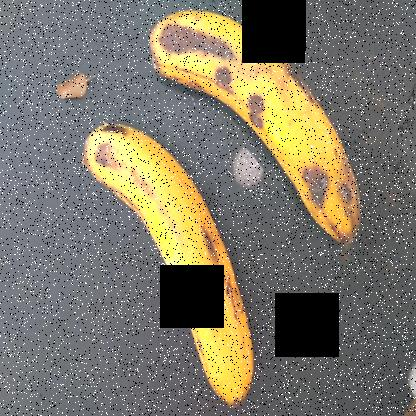overripe: (75, 116, 272, 415), (161, 8, 373, 244)
